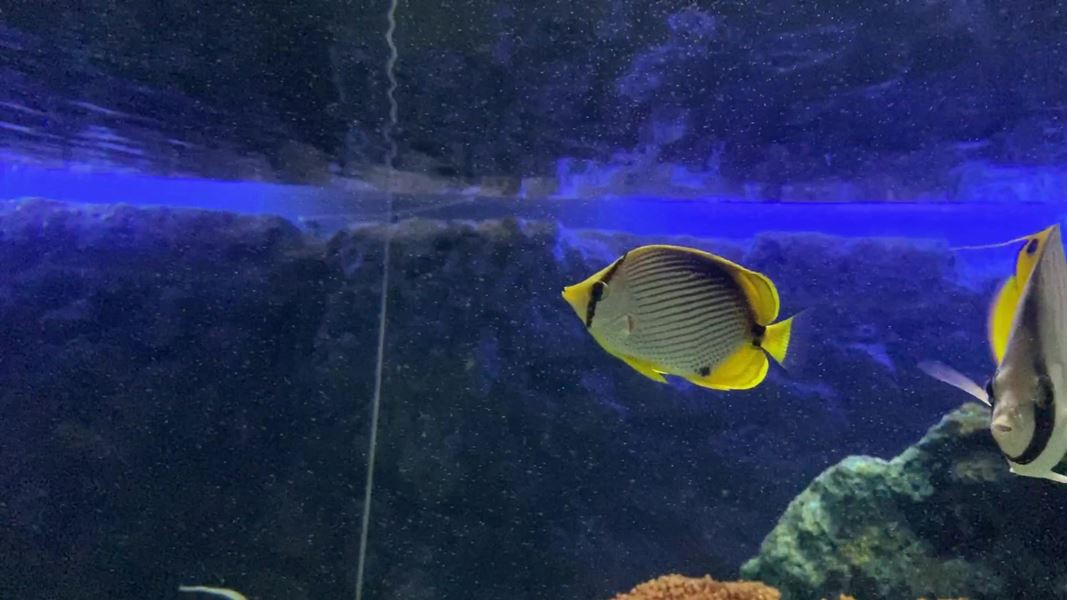Black-backed butterflyfish: (553, 237, 825, 406)
